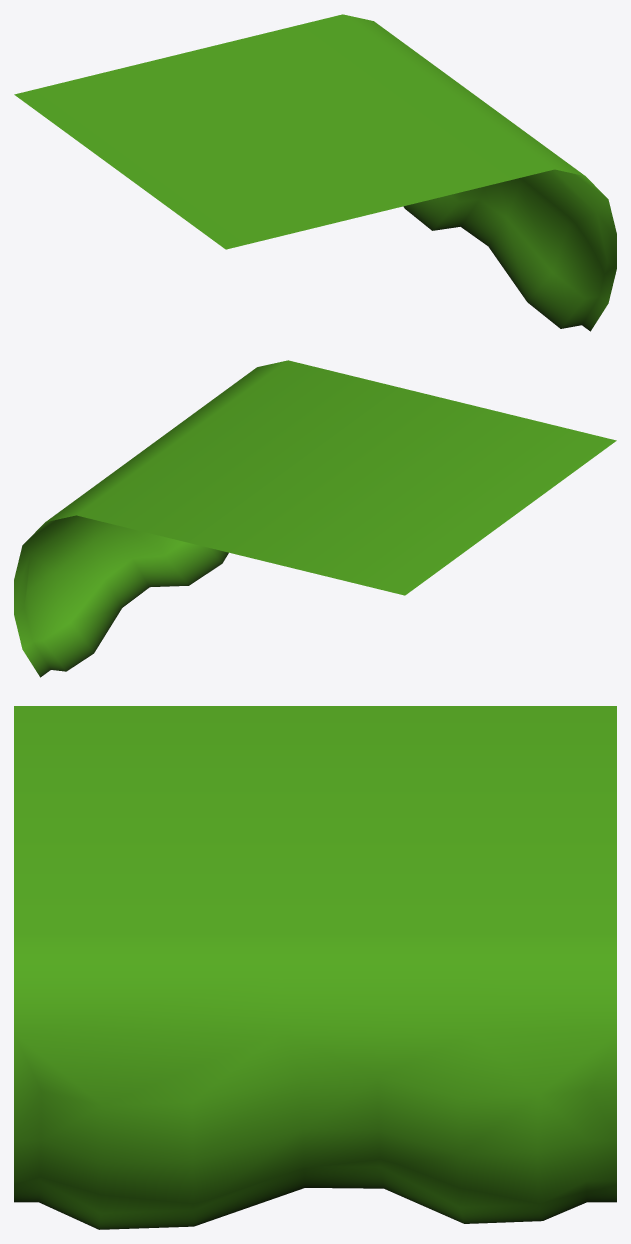
File: Surface_SideUp00.fbx
The picture shows the model from 3 angles, top to bottom: view 1: azimuth 30°, elevation 25°; view 2: azimuth 150°, elevation 25°; view 3: azimuth 270°, elevation 25°; orthographic projection. The views are drawn at different scales.
Parts seen in each view (by area): view 1: Surface_SideUp00; view 2: Surface_SideUp00; view 3: Surface_SideUp00.
Part boxes in pixels (left/top/right/bottom): Surface_SideUp00: left=14, top=14, right=616, bottom=331; Surface_SideUp00: left=14, top=360, right=616, bottom=677; Surface_SideUp00: left=14, top=706, right=616, bottom=1229.
Bounding box in the file's own units: 2212 × 990 × 2000.
